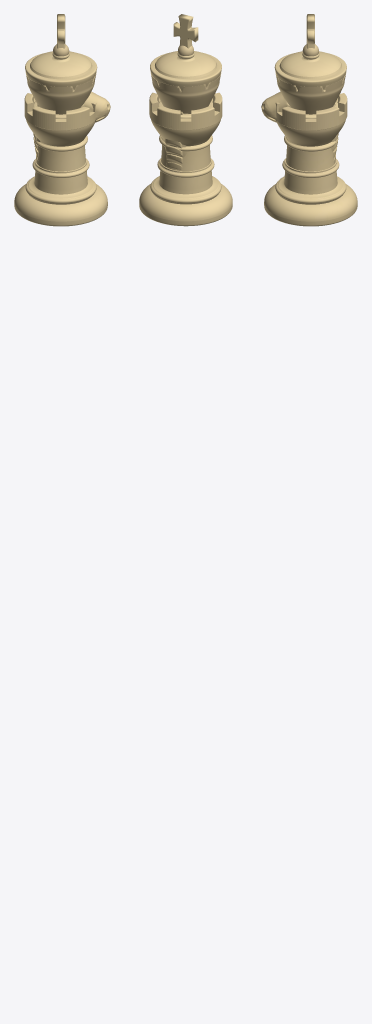
The model's file is classic.glb.
The picture shows the model from 3 angles, left to right: view 1: azimuth 90°, elevation 25°; view 2: azimuth 150°, elevation 25°; view 3: azimuth 270°, elevation 25°; orthographic projection.
Visible parts, largest first — view 1: classic_king, classic_rook, classic_queen, classic_knight; view 2: classic_king, classic_rook, classic_queen, classic_knight; view 3: classic_king, classic_rook, classic_queen, classic_knight.
Boxes of the visible parts, x1,y1,x2,y2 form: classic_king: [14, 14, 107, 226]; classic_rook: [24, 93, 96, 194]; classic_queen: [25, 44, 96, 204]; classic_knight: [32, 91, 110, 177]; classic_king: [139, 14, 232, 226]; classic_rook: [149, 92, 222, 194]; classic_queen: [150, 45, 221, 204]; classic_knight: [157, 93, 215, 177]; classic_king: [264, 14, 357, 226]; classic_rook: [275, 93, 347, 194]; classic_queen: [275, 44, 346, 204]; classic_knight: [261, 91, 339, 177].
Bounding box in the file's own units: 0.528 × 6.19 × 0.5437.
Materials: 2 (2 with a texture image).
